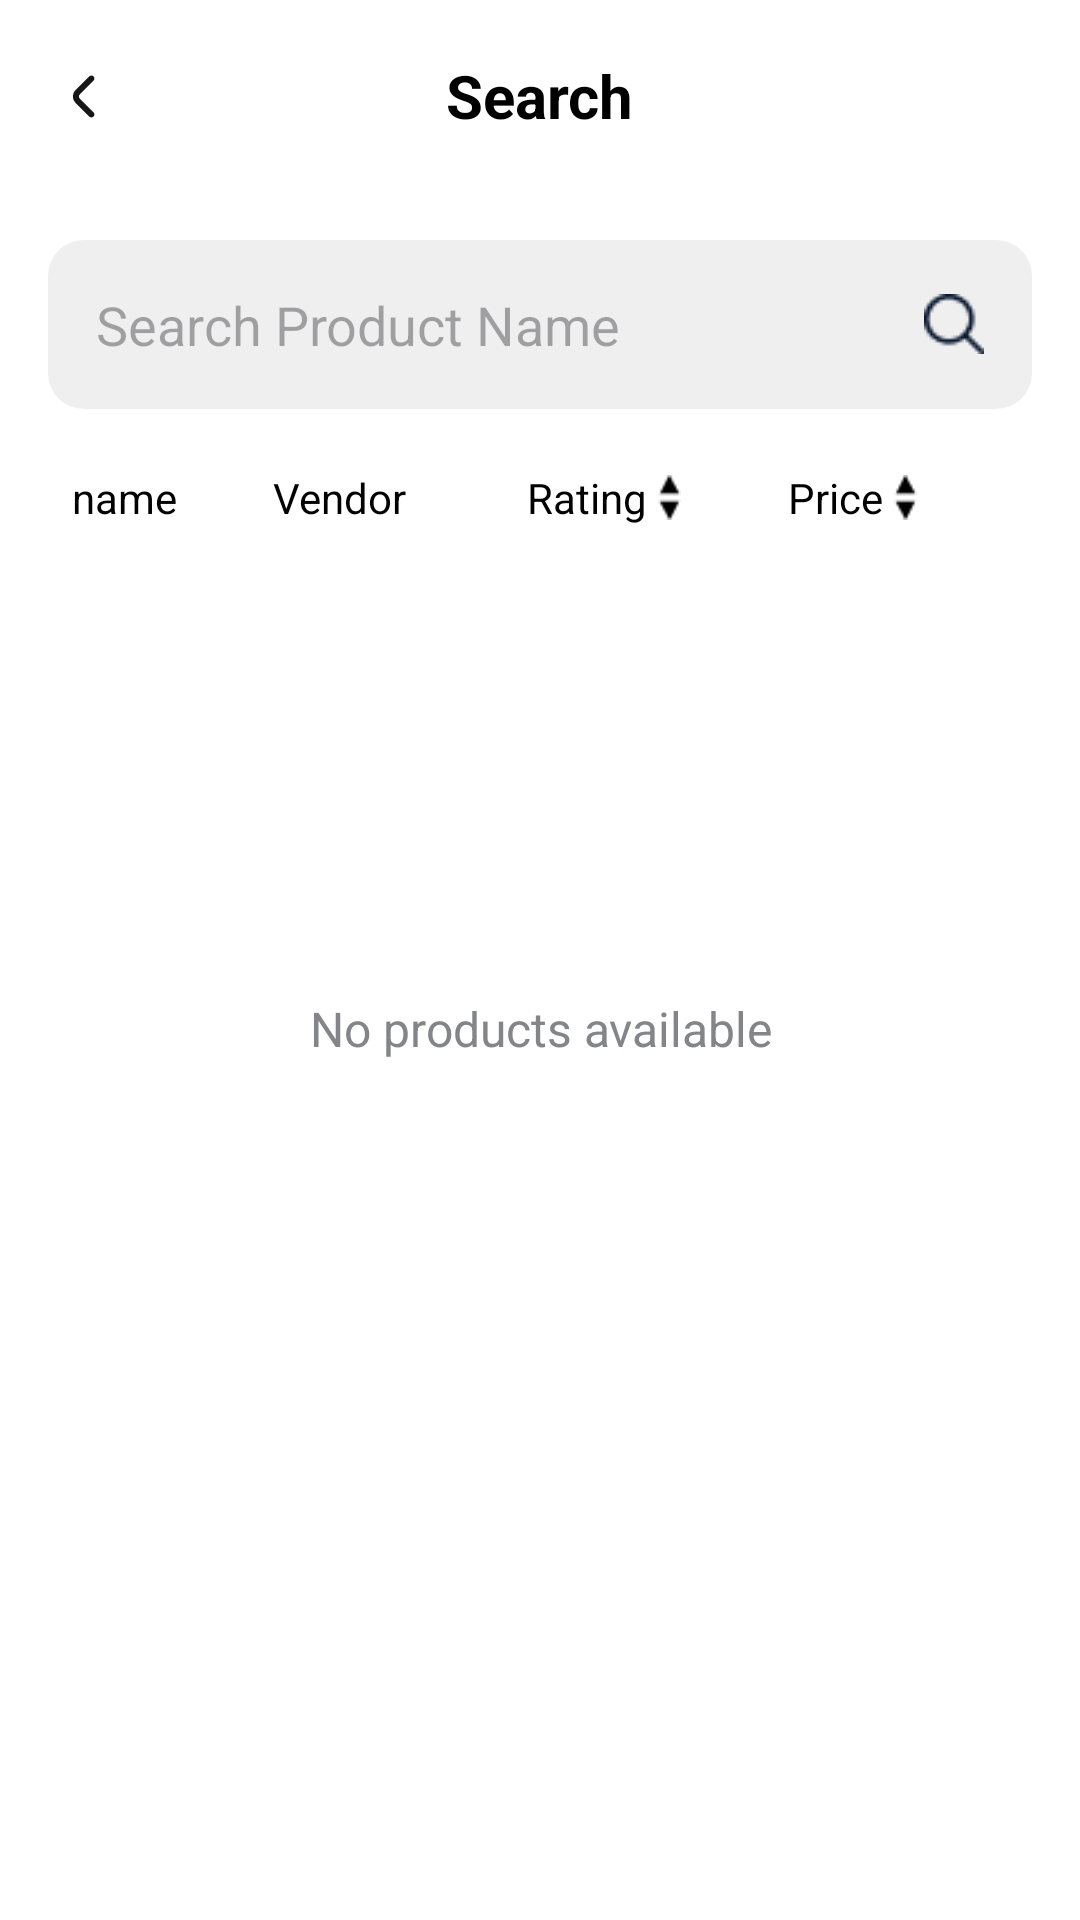

Locate icon controls on the screen. Image size 1080w x 1920h, boxes as (x1, y1, x2, y2).
short down: (659, 475, 680, 520), (895, 475, 916, 520)
